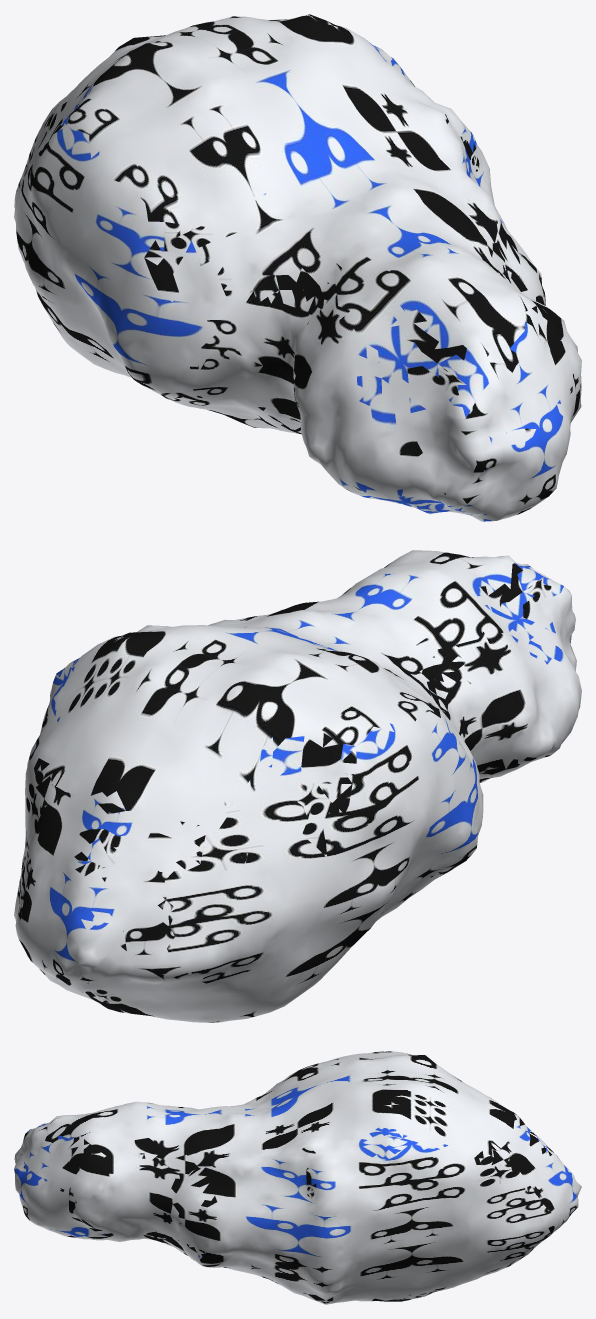
Rendered from asteroid-4179-toutatis.glb.
The picture shows the model from 3 angles, top to bottom: view 1: azimuth 30°, elevation 25°; view 2: azimuth 150°, elevation 25°; view 3: azimuth 270°, elevation 25°; orthographic projection. The views are drawn at different scales.
Visible parts, largest first — view 1: A; view 2: A; view 3: A.
Part boxes in pixels (x1,y1,x2,y2): A: (14, 14, 581, 521); A: (14, 550, 581, 1022); A: (14, 1051, 581, 1304).
Bounding box in the file's own units: 0.9929 × 0.8338 × 2.
1 material, 1 textured.
